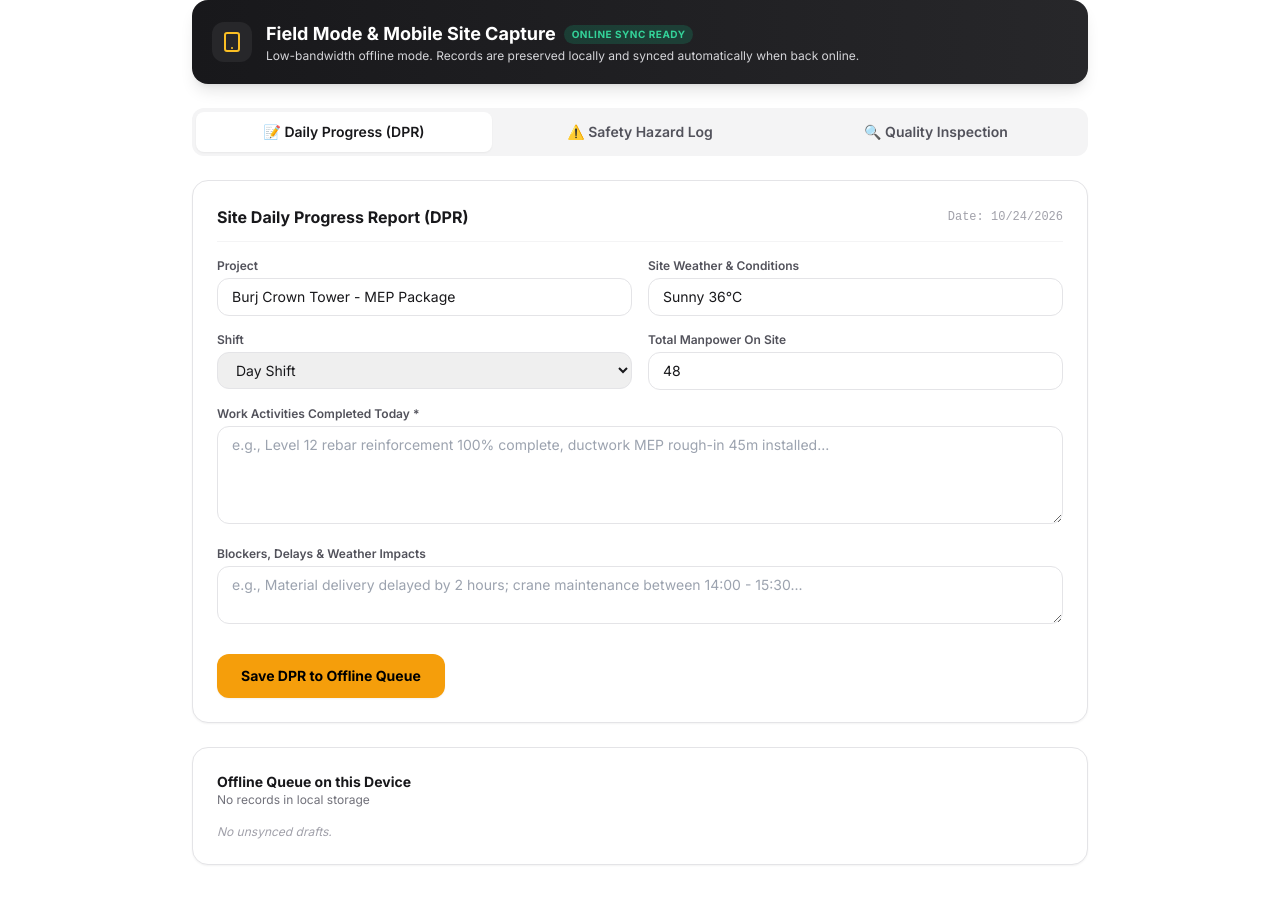
Test: Module M37: FieldModePage & Offline Capture UI › saves a DPR into offline draft queue
Replace the text in the text box with placeholder "Level 12 rebar reinforcement 100% complete" with "Completed pour for slab B2". click: {"x": 640, "y": 475}
box: [217,426,1063,524]
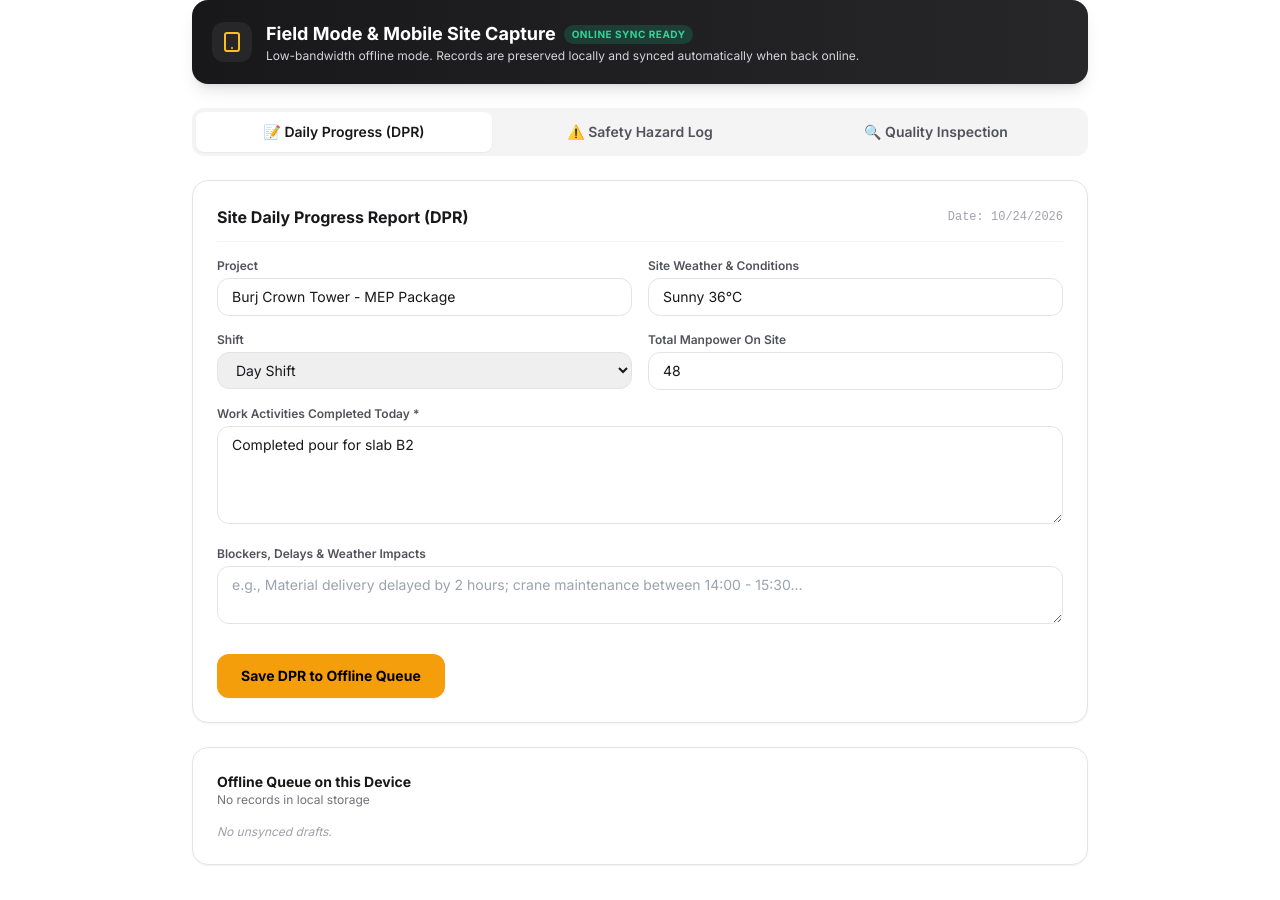
Click the button "Save DPR to Offline Queue". click: {"x": 331, "y": 676}
box: [217,654,445,698]
(page scrolled)
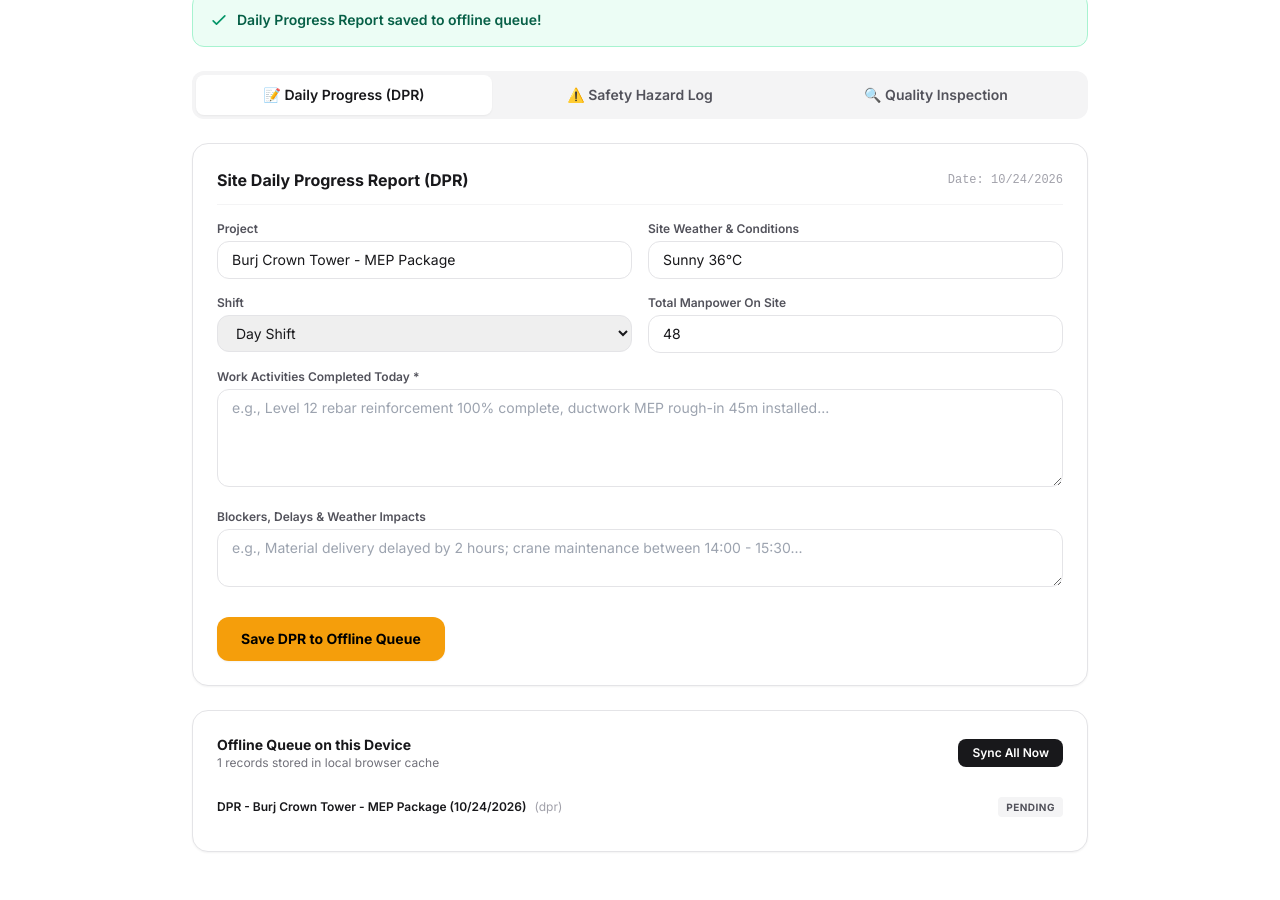
Now the text "DPR - Burj Crown Tower - MEP Package (10/24/2026)" is shown, box [217,799,526,814]
